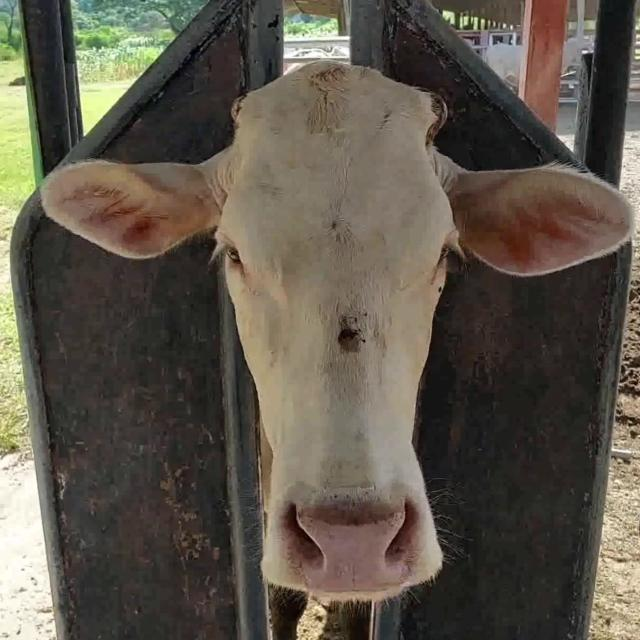cowFace: (213, 56, 456, 599)
